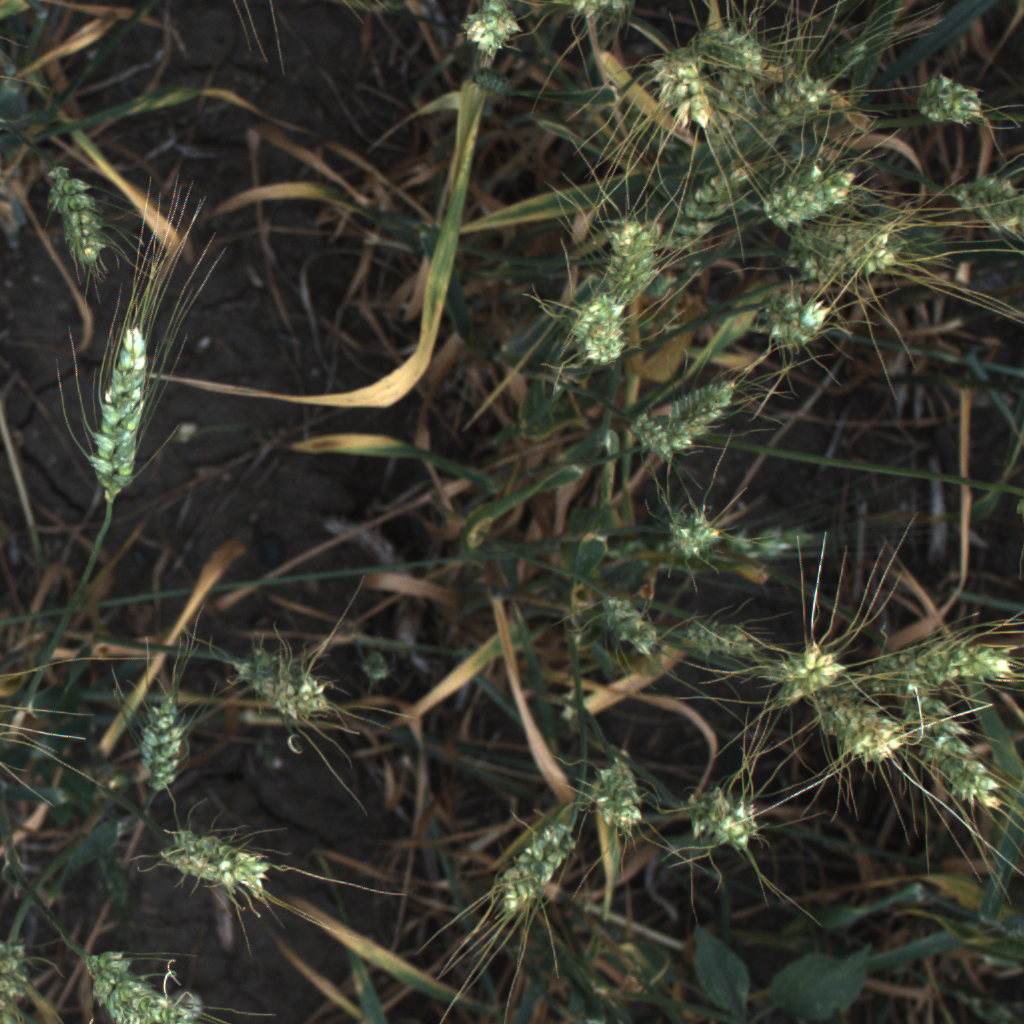wheat_head: (77, 307, 170, 507), (899, 686, 1013, 824), (857, 612, 1024, 702), (71, 941, 216, 1024), (663, 144, 766, 260), (149, 817, 282, 902), (35, 152, 121, 283), (489, 811, 582, 924), (577, 734, 657, 854), (224, 652, 343, 732), (129, 683, 192, 826), (763, 625, 862, 713), (683, 774, 776, 867), (583, 207, 673, 303), (583, 568, 666, 671), (807, 692, 912, 772), (755, 160, 881, 225), (653, 492, 747, 579), (782, 228, 910, 288), (444, 0, 534, 79), (640, 47, 719, 136), (759, 289, 854, 363), (945, 165, 1024, 251), (898, 69, 1001, 133), (671, 376, 746, 463), (750, 64, 843, 129), (568, 292, 635, 377), (676, 602, 763, 664), (684, 16, 770, 78), (615, 407, 694, 474), (0, 912, 42, 1024), (557, 0, 636, 39)
